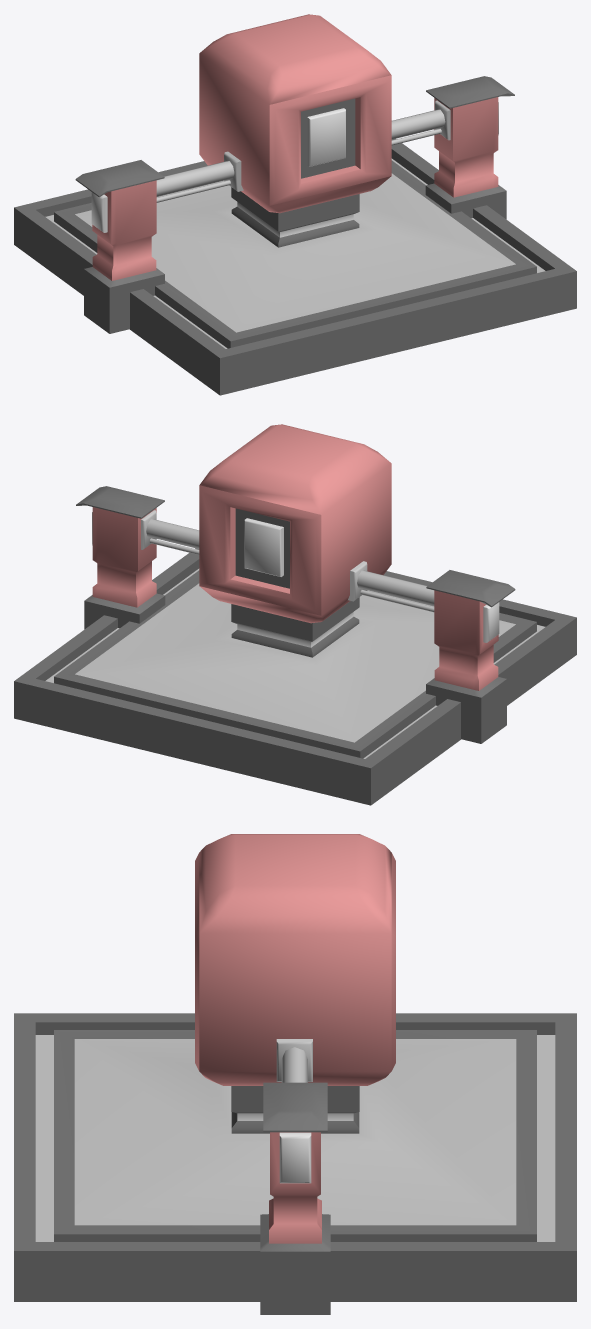
The model's file is Hub.fbx.
The picture shows the model from 3 angles, top to bottom: view 1: azimuth 30°, elevation 25°; view 2: azimuth 150°, elevation 25°; view 3: azimuth 270°, elevation 25°; orthographic projection. The views are drawn at different scales.
Visible parts, largest first — view 1: Cube; view 2: Cube; view 3: Cube.
Part boxes in pixels (bbox=[...]): Cube: bbox=[14, 14, 576, 395]; Cube: bbox=[14, 424, 576, 805]; Cube: bbox=[14, 834, 576, 1314].
Size of the model in its own units: 2330 by 1266 by 2000.
